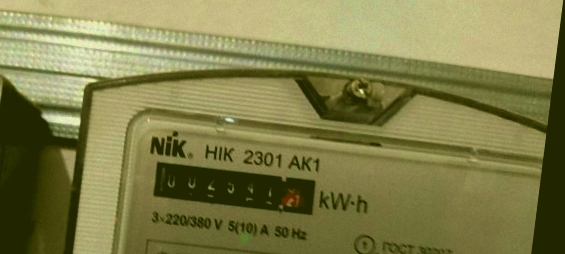0: (184, 167, 199, 190), (163, 167, 178, 189)
1: (262, 178, 276, 199)
2: (204, 171, 218, 192)
4: (244, 175, 258, 197)
5: (223, 172, 237, 196)
6: (283, 193, 296, 209)
screen: (141, 149, 328, 226)
